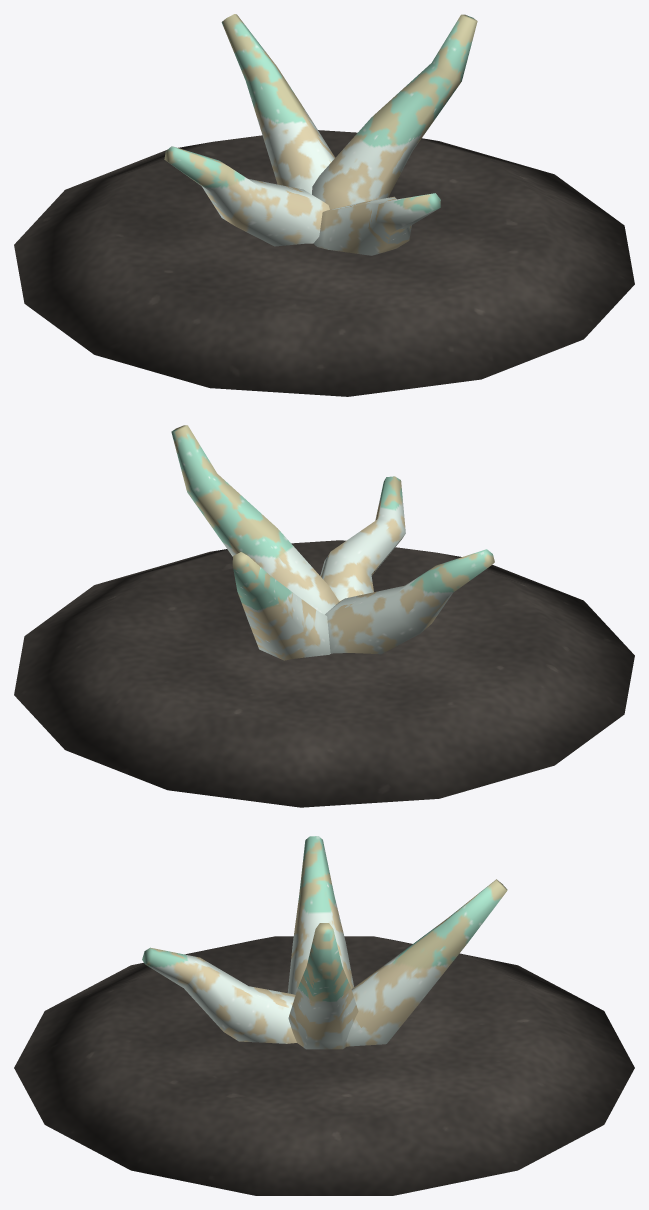
The model's file is fulgurite.glb.
The picture shows the model from 3 angles, top to bottom: view 1: azimuth 30°, elevation 25°; view 2: azimuth 150°, elevation 25°; view 3: azimuth 270°, elevation 25°; orthographic projection.
Visible parts, largest first — view 1: Fulgurite; view 2: Fulgurite; view 3: Fulgurite.
Boxes of the visible parts, left/top/right/bottom form: Fulgurite: left=14, top=14, right=634, bottom=396; Fulgurite: left=14, top=425, right=634, bottom=807; Fulgurite: left=14, top=836, right=634, bottom=1195.
Bounding box in the file's own units: 0.6824 × 0.2799 × 0.7.
1 material, 1 textured.
